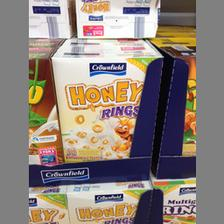Cerealien: (49, 46, 161, 162)
